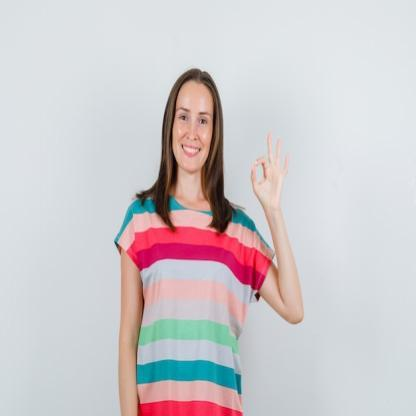ok: (249, 128, 292, 214)
